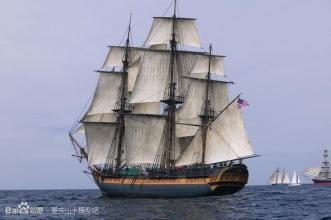fanchuan: (79, 3, 249, 195), (306, 146, 331, 185), (269, 164, 300, 187)
